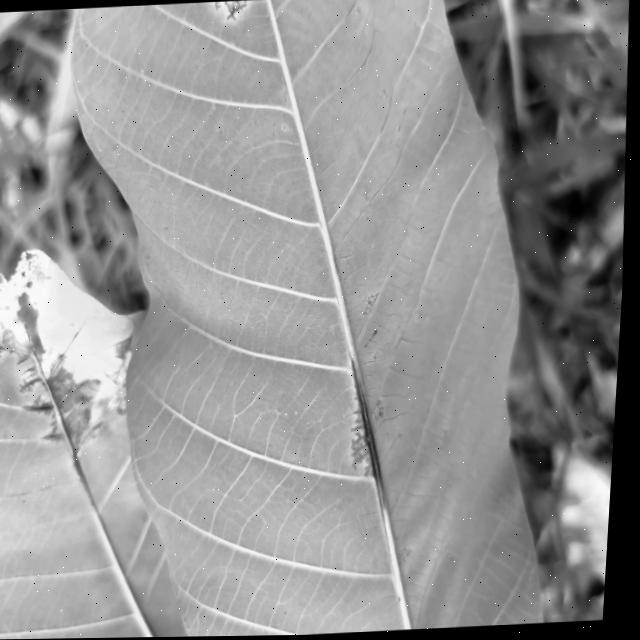Corynespora: (348, 361, 400, 510), (203, 0, 264, 23), (28, 394, 61, 415), (22, 375, 47, 393), (0, 337, 11, 361)
Leaf-Blight: (31, 344, 111, 454), (0, 248, 58, 361), (108, 336, 139, 390)
